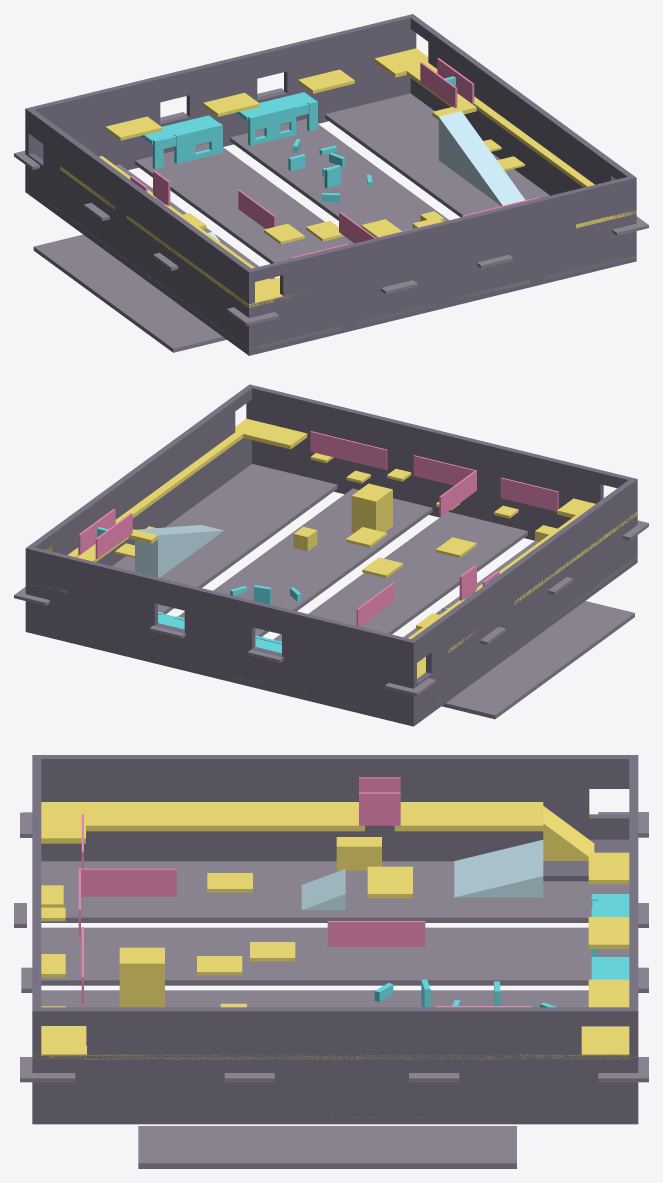
The picture shows the model from 3 angles, top to bottom: view 1: azimuth 30°, elevation 25°; view 2: azimuth 150°, elevation 25°; view 3: azimuth 270°, elevation 25°; orthographic projection. The views are drawn at different scales.
Visible parts, largest first — view 1: Wall_North, Wall_South, Wall_West, Wall_East, Arena_B, Arena_C, Arena_D, Arena_D.005, Slide_Slope_Zone2, Arena_A, East_Bypass, Dash_Cyan_Block.009 (+16 smaller); view 2: Wall_South, Wall_North, Wall_West, Wall_East, Arena_B, Arena_D, Arena_C, Arena_D.005, Slide_Slope_Zone2, West_Catwalk_S.010, WallRun_Panel_01, East_Bypass (+13 smaller); view 3: Wall_East, Wall_West, Arena_B, Arena_A, Arena_D.001, West_Catwalk_N, Arena_C, West_Catwalk_S, Toboggan, Wall_South, Wall_North, West_Catwalk_S.010 (+21 smaller).
Part boxes in pixels (bbox=[...]): Wall_North: bbox=[246, 177, 636, 355]; Wall_South: bbox=[25, 14, 416, 192]; Wall_West: bbox=[25, 107, 254, 355]; Wall_East: bbox=[408, 14, 636, 261]; Arena_B: bbox=[135, 142, 434, 325]; Arena_C: bbox=[230, 118, 530, 300]; Arena_D: bbox=[325, 93, 636, 279]; Arena_D.005: bbox=[33, 234, 226, 352]; Slide_Slope_Zone2: bbox=[438, 111, 525, 205]; Arena_A: bbox=[26, 164, 340, 351]; East_Bypass: bbox=[427, 65, 594, 187]; Dash_Cyan_Block.009: bbox=[248, 105, 296, 145]; Wall_South: bbox=[25, 546, 416, 725]; Wall_North: bbox=[246, 384, 635, 540]; Wall_West: bbox=[408, 478, 637, 726]; Wall_East: bbox=[25, 384, 254, 632]; Arena_B: bbox=[228, 511, 527, 695]; Arena_D: bbox=[39, 464, 337, 649]; Arena_C: bbox=[132, 488, 432, 672]; Arena_D.005: bbox=[442, 601, 634, 719]; Slide_Slope_Zone2: bbox=[135, 525, 223, 577]; West_Catwalk_S.010: bbox=[351, 483, 392, 532]; WallRun_Panel_01: bbox=[310, 431, 387, 469]; East_Bypass: bbox=[67, 432, 243, 557]; Wall_East: bbox=[32, 1007, 638, 1124]; Wall_West: bbox=[32, 755, 638, 861]; Arena_B: bbox=[41, 927, 629, 985]; Arena_A: bbox=[41, 861, 629, 922]; Arena_D.001: bbox=[138, 1126, 516, 1168]; West_Catwalk_N: bbox=[41, 802, 364, 831]; Arena_C: bbox=[41, 990, 629, 1045]; West_Catwalk_S: bbox=[394, 802, 543, 831]; Toboggan: bbox=[454, 840, 543, 897]; Wall_South: bbox=[629, 755, 638, 1124]; Wall_North: bbox=[32, 755, 41, 1124]; West_Catwalk_S.010: bbox=[119, 947, 164, 1007].
Bounding box in the file's own units: 120 × 25.19 × 107.
